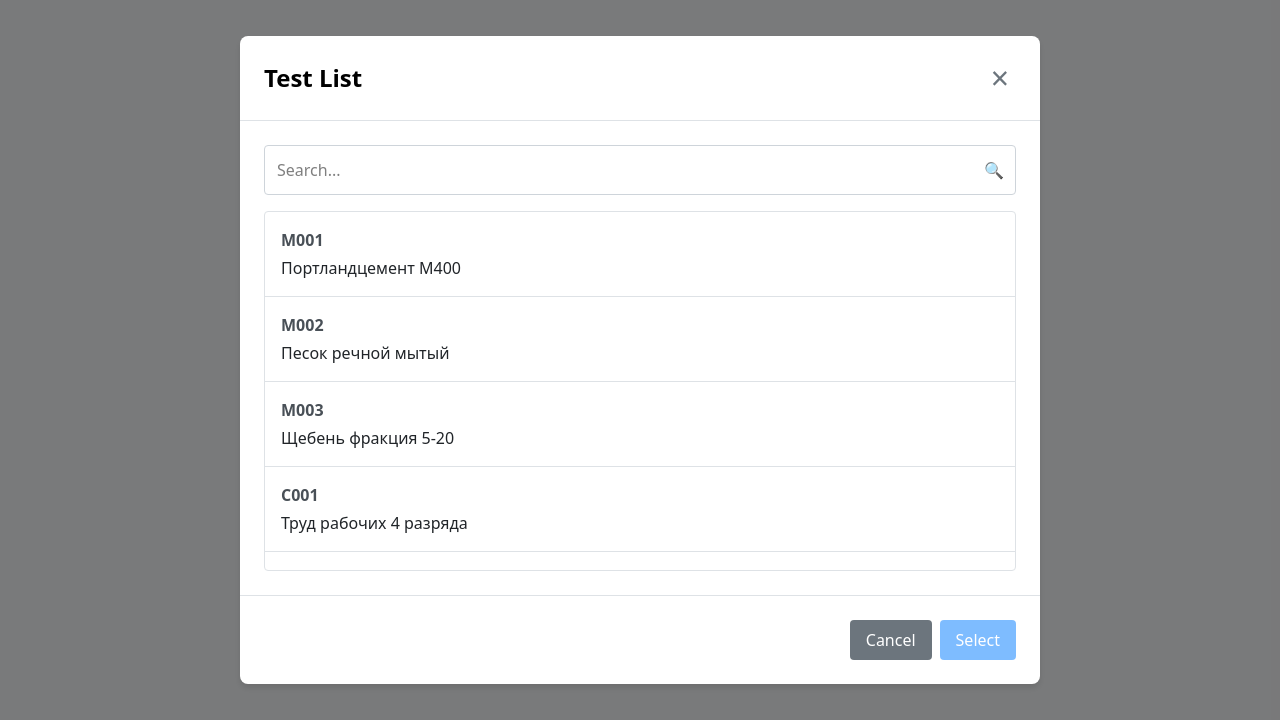
Test: ListForm - Substring Entry Feature › should show empty state when no matches found
Type "ZZZZZ" into the field with class "search-input" at (640, 170), box [264,145,1016,195]
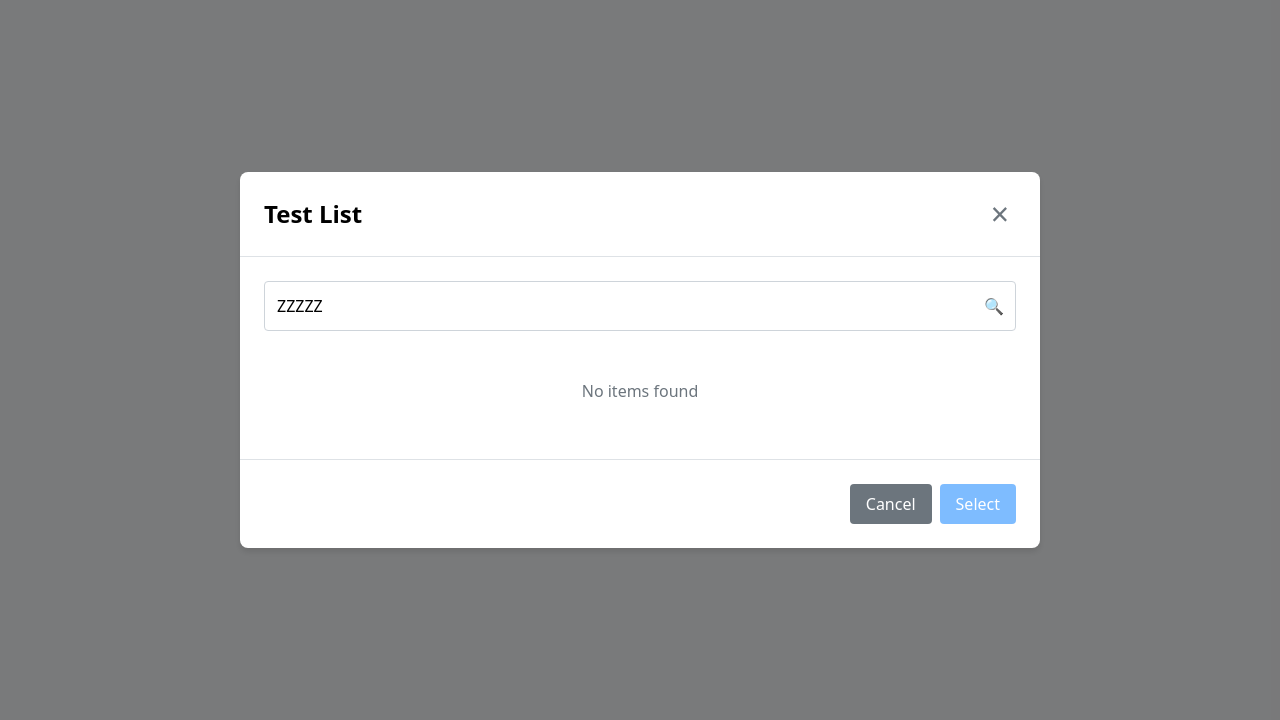
Result: the element with class "empty-state" is shown at [582,380,698,402]
